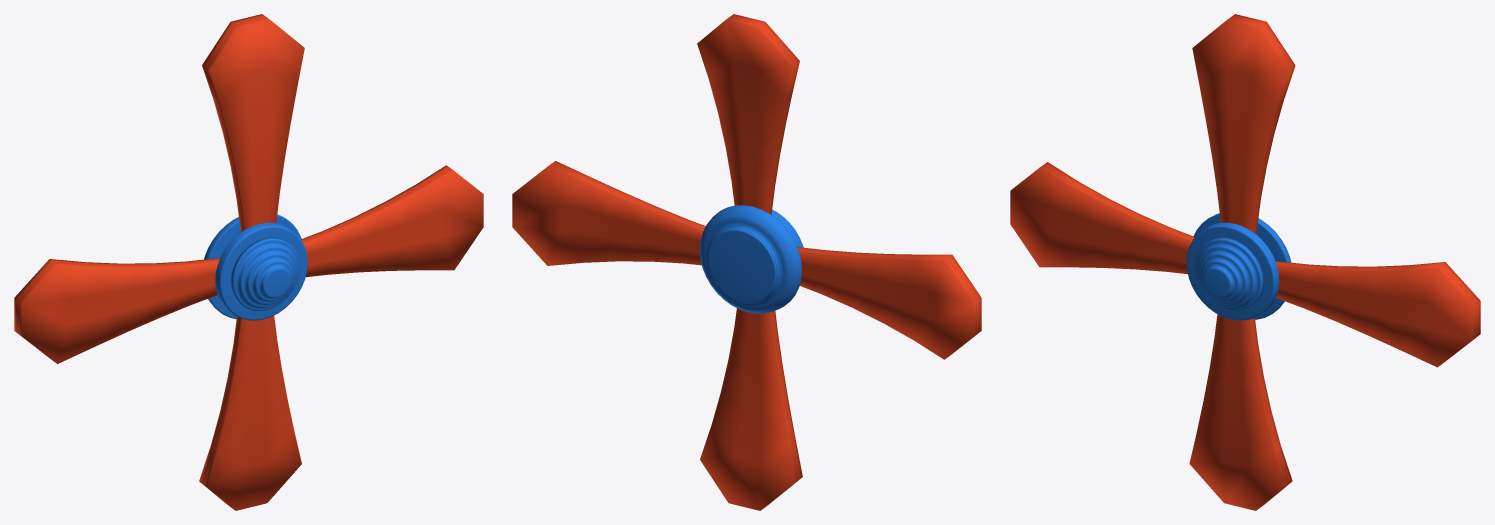
Rendered from fan2.fbx.
3 views of the same model, side by side, from view 1: azimuth 30°, elevation 25°; view 2: azimuth 150°, elevation 25°; view 3: azimuth 330°, elevation 25° (orthographic).
Parts seen in each view (by area): view 1: Cartoon_Ceiling_Fan04; view 2: Cartoon_Ceiling_Fan04; view 3: Cartoon_Ceiling_Fan04.
Boxes of the visible parts, x1=… form: Cartoon_Ceiling_Fan04: x1=14, y1=14, x2=483, y2=510; Cartoon_Ceiling_Fan04: x1=512, y1=14, x2=981, y2=510; Cartoon_Ceiling_Fan04: x1=1010, y1=14, x2=1480, y2=510.
Size of the model in its own units: 93.49 by 93.49 by 11.94.
